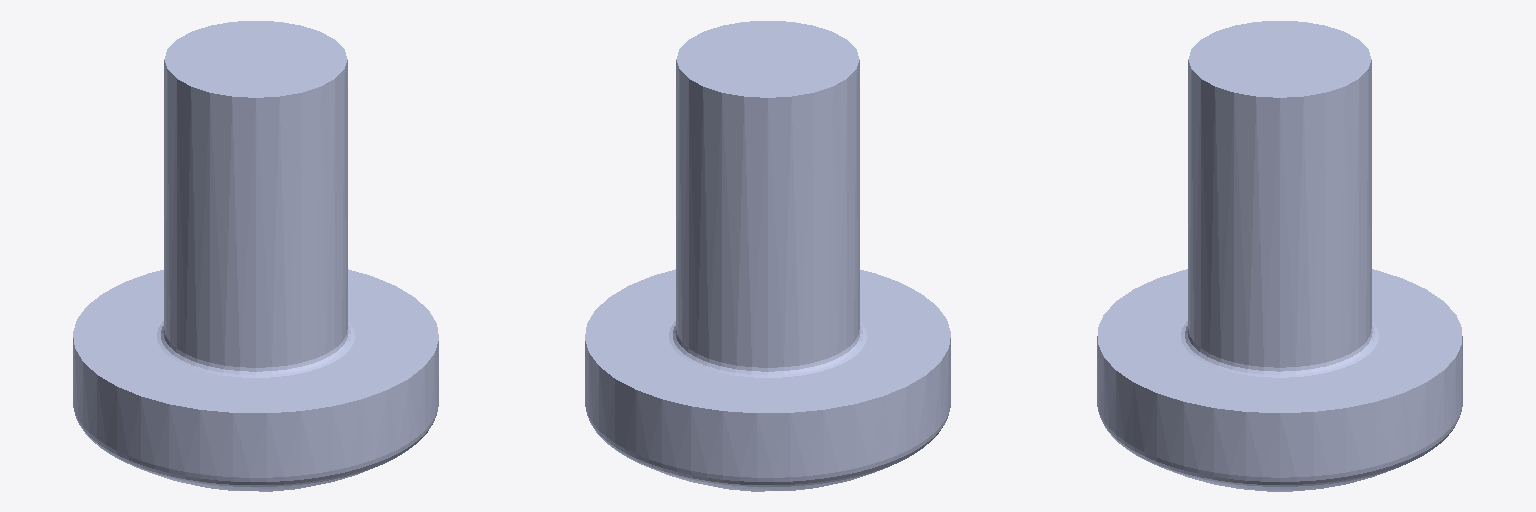
URDF robot description (122925.SLDPRT):
<?xml version="1.0" encoding="utf-8"?>
<!-- This URDF was automatically created by SolidWorks to URDF Exporter! Originally created by [author] ([email redacted]) 
     Commit Version: 1.5.1-0-g916b5db  Build Version: 1.5.7152.31018
     For more information, please see http://wiki.ros.org/sw_urdf_exporter -->
<robot
  name="122925.SLDPRT">
  <link
    name="122925.SLDPRT">
    <inertial>
      <origin
        xyz="-6.3758E-19 -2.3764E-19 0.00578"
        rpy="0 -1.5707963267949 0" />
      <mass
        value="0.00065266" />
      <inertia
        ixx="7.8857E-09"
        ixy="1.1443E-19"
        ixz="-1.1443E-19"
        iyy="1.4006E-08"
        iyz="-7.19799999999999E-14"
        izz="1.4007E-08" />
    </inertial>
    <visual>
      <origin
        xyz="0 0 0"
        rpy="0 -1.5707963267949 0" />
      <geometry>
        <mesh
          filename="package://object_description/chair_meshes/122925.SLDPRT.STL" />
      </geometry>
      <material
        name="">
        <color
          rgba="0.79216 0.81961 0.93333 1" />
        <texture
          filename="package://object_description/textures/" />
      </material>
    </visual>
    <collision>
      <origin
        xyz="0 0 0"
        rpy="0 -1.5707963267949 0" />
      <geometry>
        <mesh
          filename="package://object_description/chair_meshes/122925.SLDPRT.STL" />
      </geometry>
    </collision>
  </link>
	<gazebo reference="122925.SLDPRT">
    <material>Gazebo/Grey</material>
    <kp>100000.0</kp>
    <kd>1.0</kd>
    <mu1>100000</mu1>
    <mu2>100000</mu2>
    <maxVel>0</maxVel>
    <minDepth>0.000</minDepth>
  </gazebo>
</robot>

--- What the picture shows (computed from the rendered views, not written in the file) ---
Views: 3 orthographic renders of the robot side by side, from view 1: azimuth 30°, elevation 25°; view 2: azimuth 150°, elevation 25°; view 3: azimuth 270°, elevation 25°.
Model 122925.SLDPRT with 1 links and 0 joints (none), rooted at 122925.SLDPRT, posed all joints at 0.
Links seen in each view (by area): view 1: 122925.SLDPRT; view 2: 122925.SLDPRT; view 3: 122925.SLDPRT.
Boxes of the visible links, x1,y1,x2,y2 form: 122925.SLDPRT: (73, 21, 438, 491); 122925.SLDPRT: (585, 21, 950, 491); 122925.SLDPRT: (1097, 21, 1462, 491).
Bounding box of the posed robot: 0.012 × 0.012 × 0.0145 m (x, y, z).
Meshes: 1 distinct files referenced, 1 mesh visuals loaded (1 binary STL).